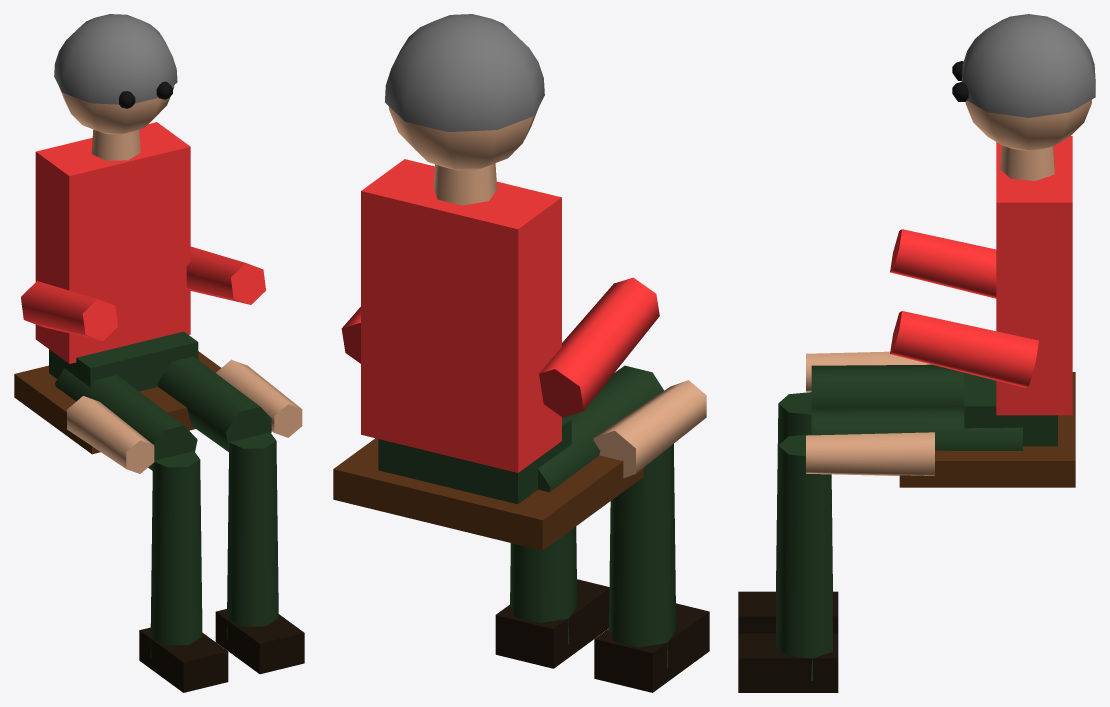
File: crowd-seated-32.glb
3 views of the same model, side by side, from view 1: azimuth 30°, elevation 25°; view 2: azimuth 150°, elevation 25°; view 3: azimuth 270°, elevation 25° (orthographic). The views are drawn at different scales.
Parts seen in each view (by area): view 1: Torso, Left Shin, Right Shin, Hair Cap, Right Thigh, Left Thigh, Hips, Left Upper Arm, Left Shoe, Right Shoe, Left Lower Arm, Bench Seat (+4 smaller); view 2: Torso, Hair Cap, Bench Seat, Left Shin, Left Upper Arm, Hips, Left Shoe, Right Shoe, Left Lower Arm, Right Shin, Left Thigh, Head (+2 smaller); view 3: Torso, Right Shin, Hair Cap, Right Upper Arm, Bench Seat, Left Thigh, Right Thigh, Right Lower Arm, Left Upper Arm, Right Shoe, Head, Hips (+4 smaller).
Part boxes in pixels (x1=…): Torso: x1=35, y1=122, x2=190, y2=363; Left Shin: x1=150, y1=451, x2=202, y2=658; Right Shin: x1=226, y1=432, x2=278, y2=639; Hair Cap: x1=54, y1=14, x2=177, y2=104; Right Thigh: x1=157, y1=356, x2=271, y2=451; Left Thigh: x1=55, y1=368, x2=197, y2=470; Hips: x1=49, y1=331, x2=198, y2=391; Left Upper Arm: x1=21, y1=281, x2=117, y2=340; Left Shoe: x1=139, y1=627, x2=228, y2=692; Right Shoe: x1=215, y1=609, x2=304, y2=674; Left Lower Arm: x1=67, y1=396, x2=154, y2=473; Bench Seat: x1=14, y1=351, x2=220, y2=454; Torso: x1=361, y1=159, x2=561, y2=472; Hair Cap: x1=385, y1=14, x2=544, y2=131; Bench Seat: x1=333, y1=438, x2=643, y2=550; Left Shin: x1=609, y1=444, x2=676, y2=668; Left Upper Arm: x1=539, y1=277, x2=659, y2=417; Hips: x1=378, y1=417, x2=571, y2=504; Left Shoe: x1=594, y1=603, x2=709, y2=692; Right Shoe: x1=495, y1=579, x2=609, y2=668; Left Lower Arm: x1=593, y1=380, x2=706, y2=478; Right Shin: x1=510, y1=526, x2=577, y2=644; Left Thigh: x1=538, y1=365, x2=663, y2=492; Head: x1=389, y1=107, x2=538, y2=170; Torso: x1=996, y1=136, x2=1072, y2=415; Right Shin: x1=775, y1=434, x2=832, y2=681; Hair Cap: x1=962, y1=14, x2=1095, y2=117; Right Upper Arm: x1=890, y1=311, x2=1038, y2=387; Bench Seat: x1=899, y1=372, x2=1075, y2=487; Left Thigh: x1=811, y1=364, x2=964, y2=407; Right Thigh: x1=811, y1=406, x2=1022, y2=450; Right Lower Arm: x1=806, y1=432, x2=934, y2=475; Left Upper Arm: x1=890, y1=229, x2=996, y2=298; Right Shoe: x1=738, y1=633, x2=838, y2=692; Head: x1=965, y1=99, x2=1091, y2=151; Hips: x1=964, y1=372, x2=1057, y2=446.
Size of the model in its own units: 0.4097 by 1.2 by 0.6089.
